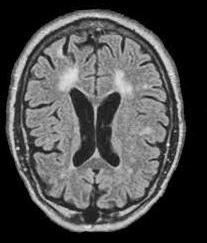Normal_Brain: (3, 2, 207, 243)
